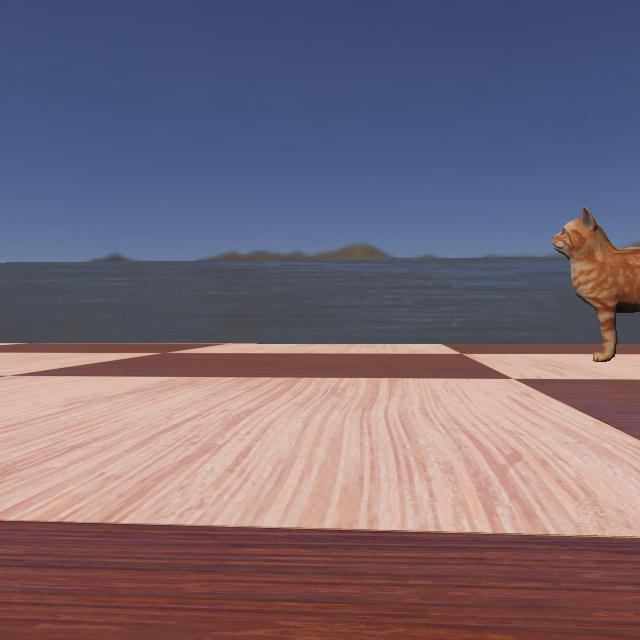cat: (542, 196, 640, 364)
